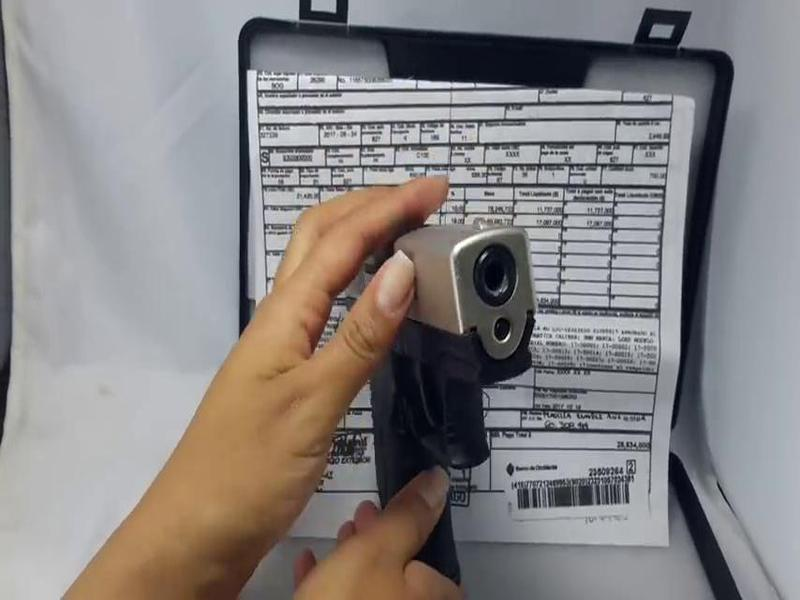Pistola: (314, 187, 559, 597)
